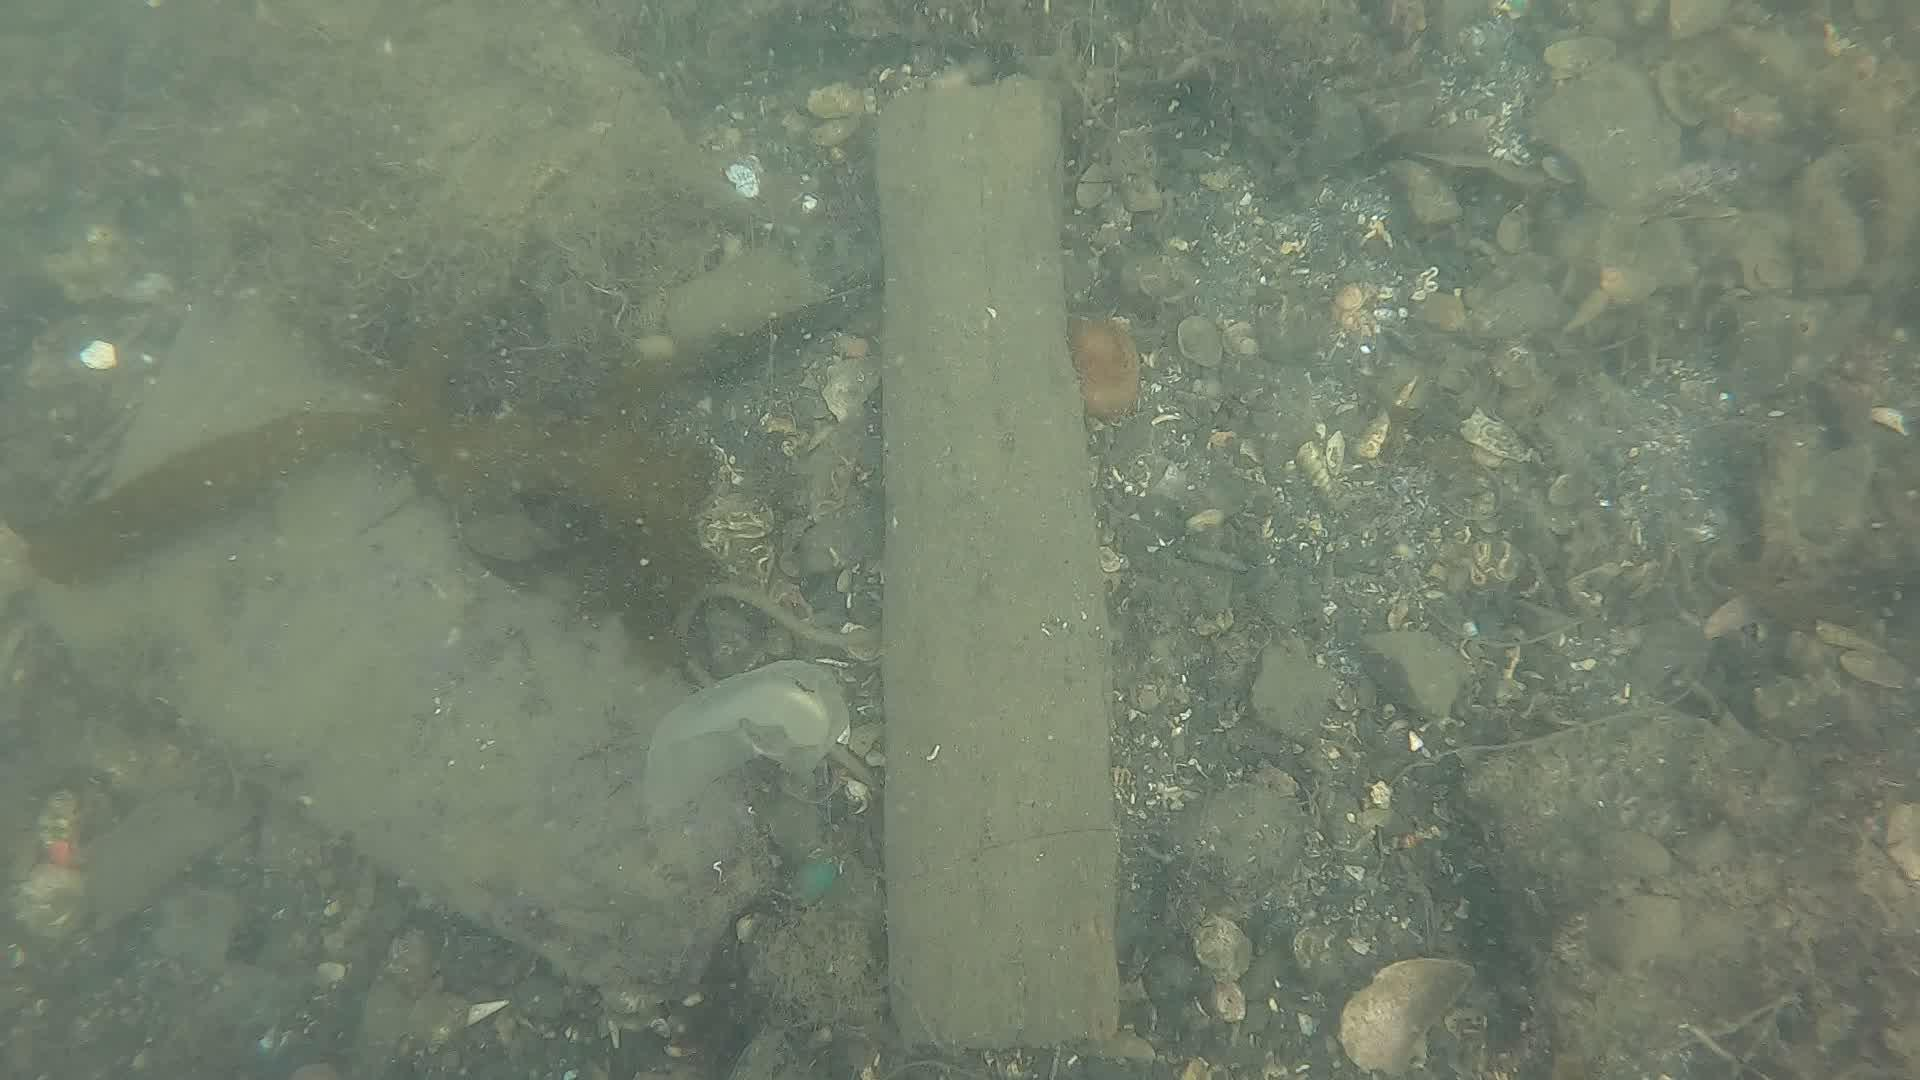wood: (870, 67, 1126, 1063)
